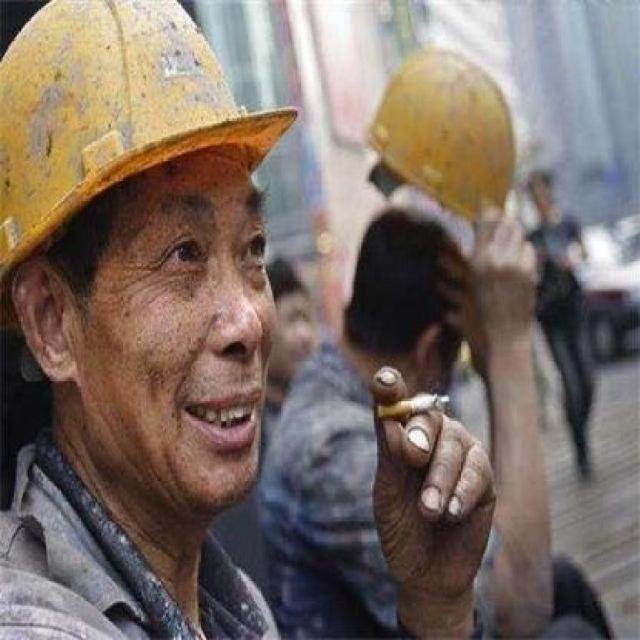face_nomask: (84, 175, 284, 503)
hand_noglove: (369, 362, 497, 606), (466, 212, 540, 332), (437, 243, 495, 372)
head_helmet: (0, 1, 292, 198), (356, 48, 536, 212)
head_nohelmet: (378, 197, 474, 269)
person: (8, 6, 482, 640)
